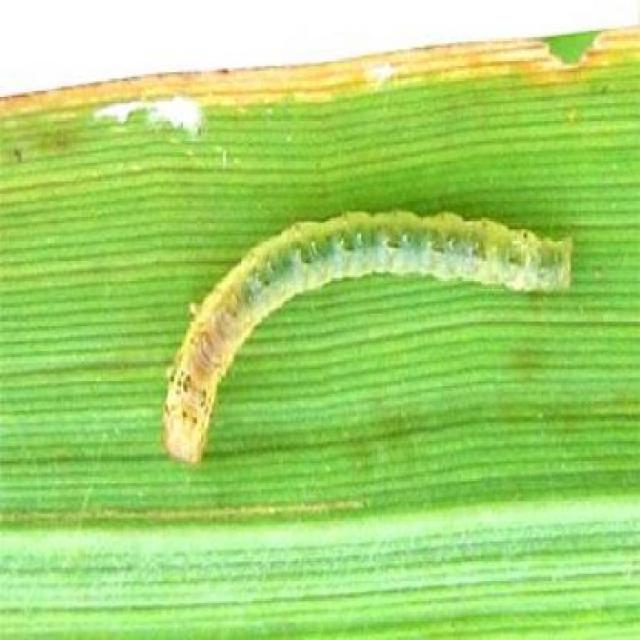leaf-folder: (152, 202, 566, 458)
